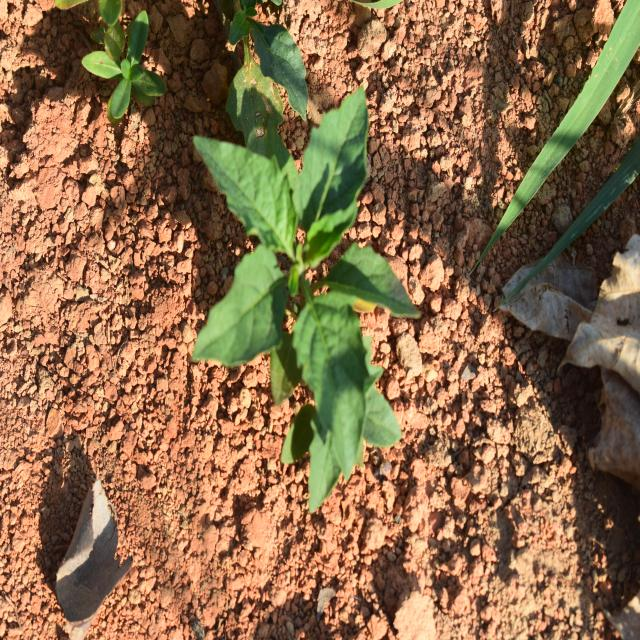Black_nightshade: (211, 105, 417, 481)
